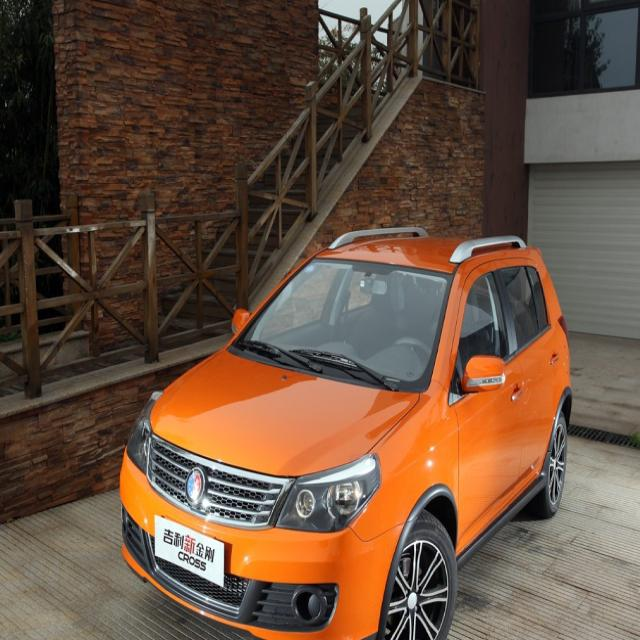back_left_side_light: (557, 311, 569, 344)
door: (495, 264, 562, 486)
front_bumper: (117, 444, 411, 640)
front_glass: (230, 254, 455, 396)
front_left_side_door: (437, 259, 529, 556)
front_left_side_light: (272, 446, 386, 534)
front_left_side_mirror: (460, 354, 506, 396)
front_right_side_light: (119, 389, 169, 476)
front_right_side_mirror: (227, 306, 254, 342)
wheel: (378, 518, 457, 640), (531, 408, 567, 517)
